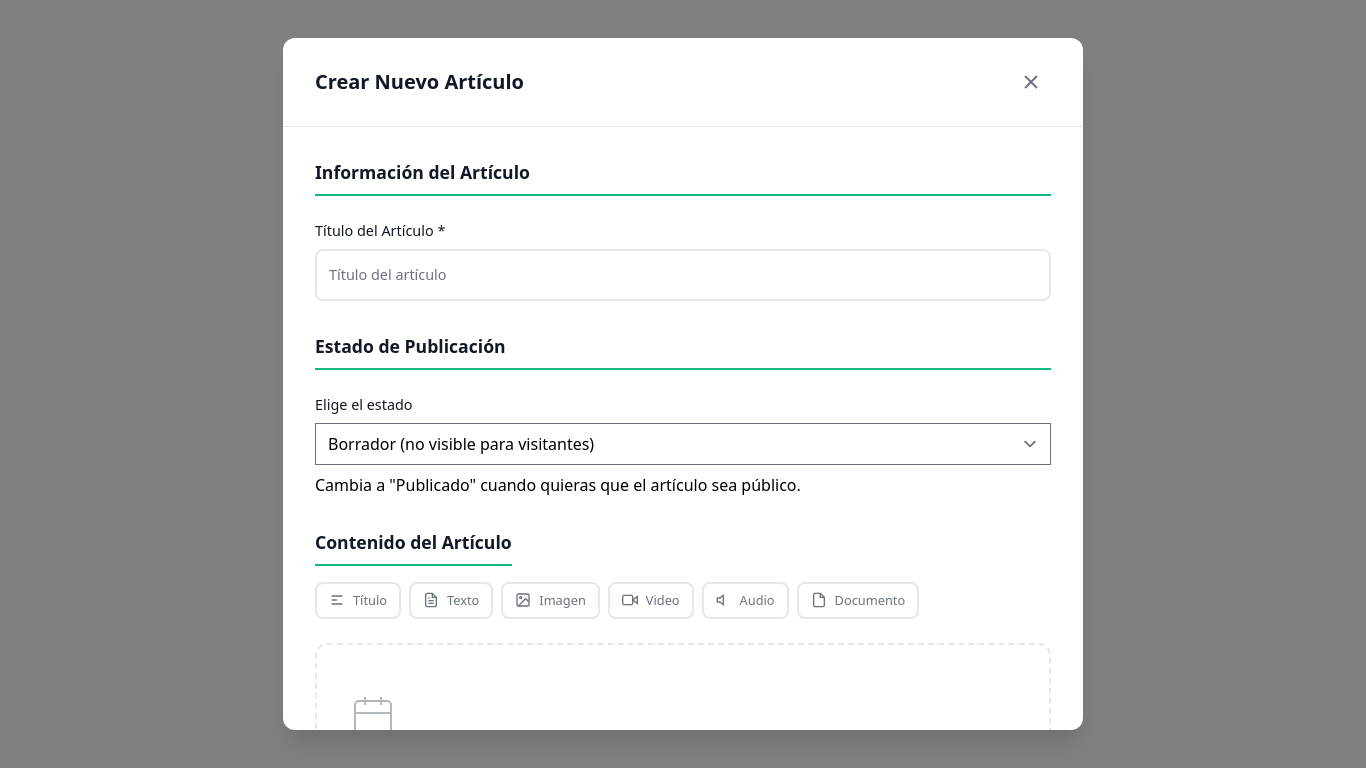
Test case: BlogPostForm › Element Management › should show order numbers for elements
Click the button "Texto" at (451, 600), box [409,582,493,619]
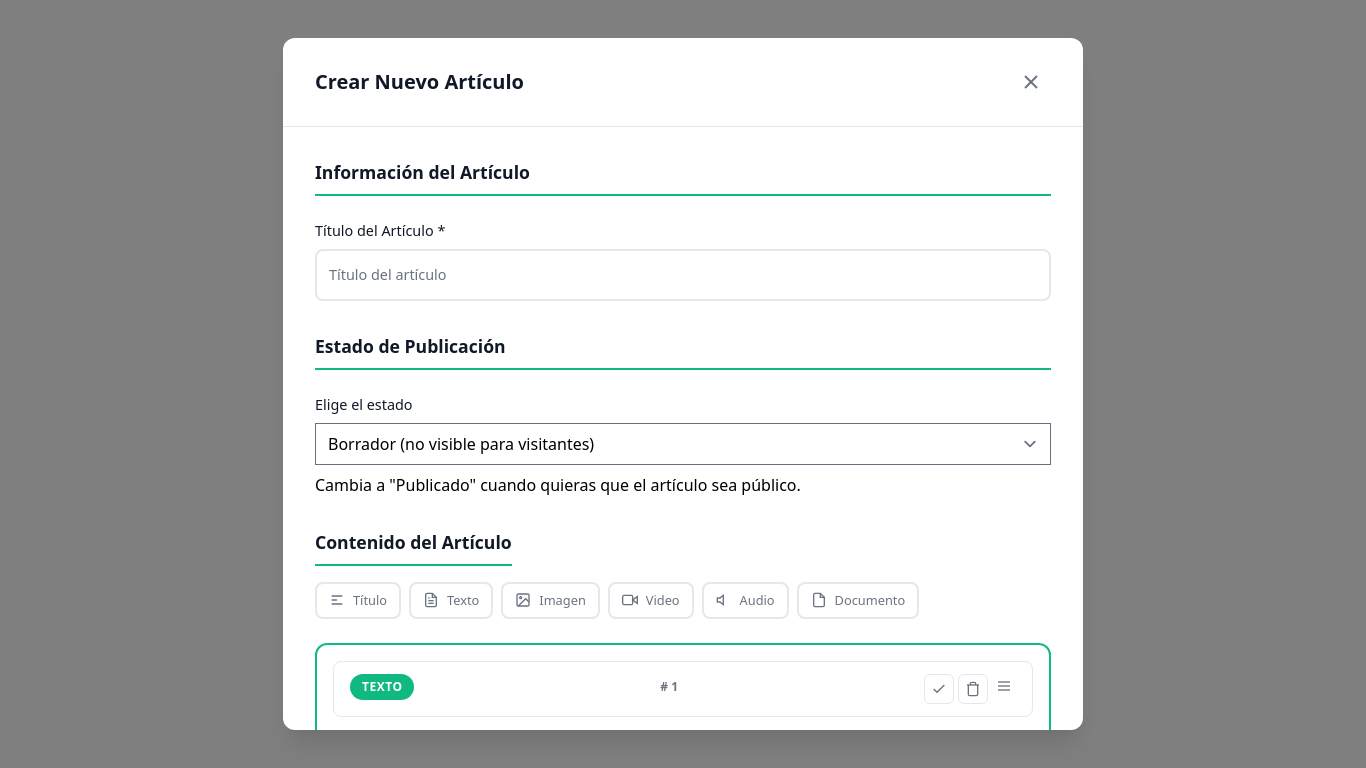
Result: the text "# 1" is shown at [660,678,678,695]
